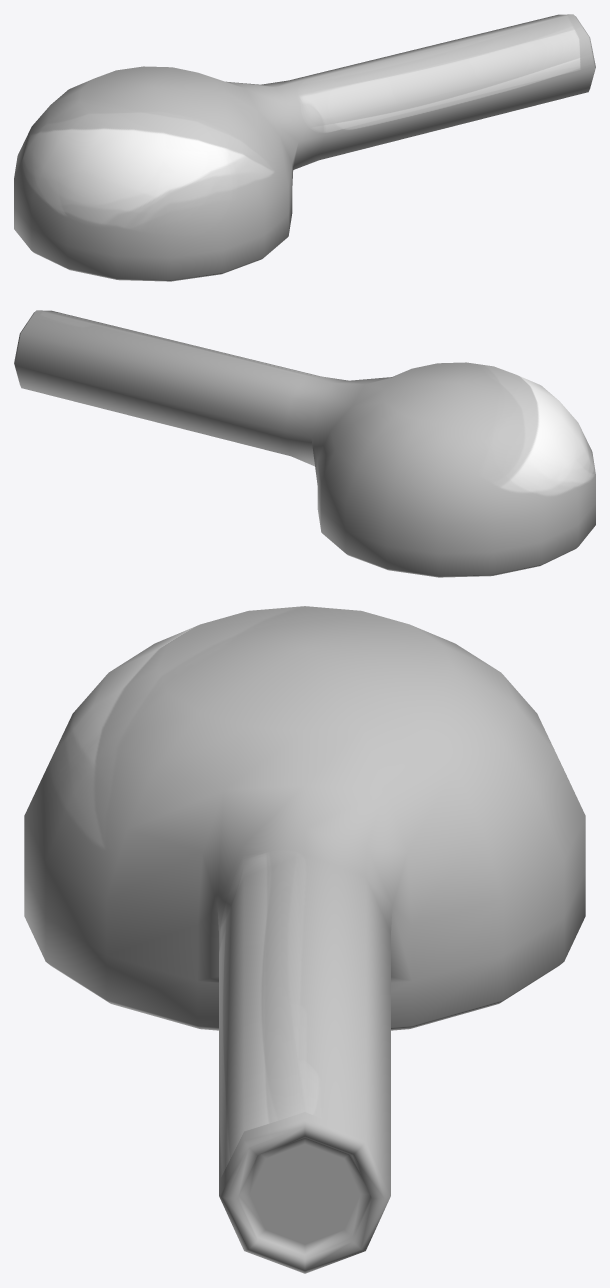
File: shower.fbx
3 views of the same model, one above another, from view 1: azimuth 30°, elevation 25°; view 2: azimuth 150°, elevation 25°; view 3: azimuth 270°, elevation 25° (orthographic). The views are drawn at different scales.
Parts seen in each view (by area): view 1: shower; view 2: shower; view 3: shower.
Part boxes in pixels (x1,y1,x2,y2): shower: (14,14,595,281); shower: (14,310,595,577); shower: (24,606,585,1273).
Size of the model in its own units: 160 by 38.41 by 71.44.
